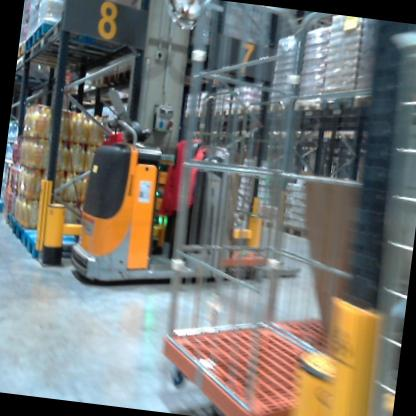pallet: (23, 28, 123, 68), (29, 17, 120, 60), (20, 226, 92, 272), (17, 41, 82, 75), (318, 90, 357, 118), (352, 84, 388, 113), (291, 91, 325, 120), (10, 220, 29, 249), (6, 203, 19, 231)
pallet_truck: (60, 58, 278, 304)
